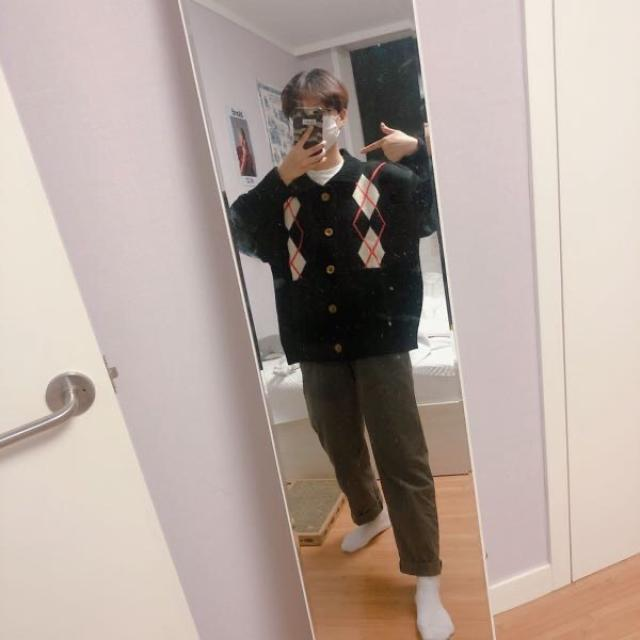cardigan: (232, 152, 436, 360)
cottonpants: (297, 346, 447, 574)
